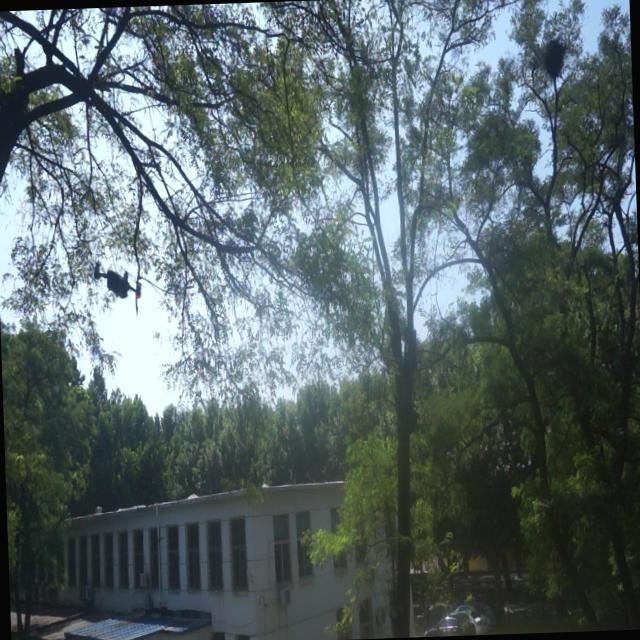drone: (88, 255, 144, 308)
